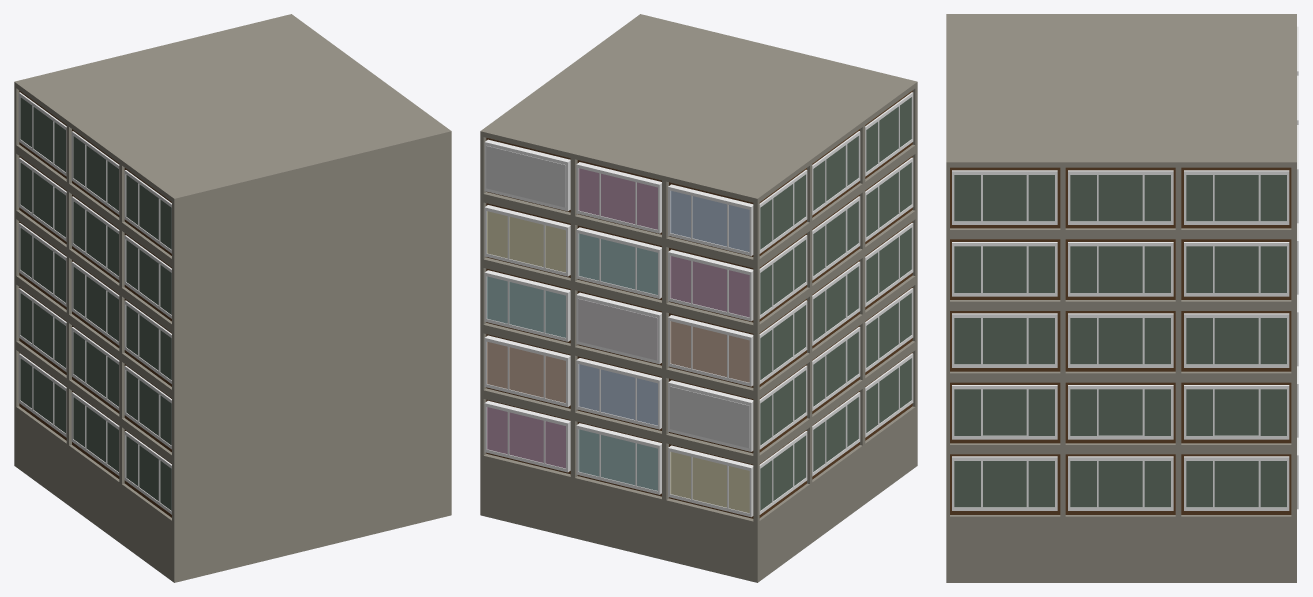
3 views of the same model, side by side, from view 1: azimuth 30°, elevation 25°; view 2: azimuth 150°, elevation 25°; view 3: azimuth 270°, elevation 25° (orthographic). The views are drawn at different scales.
Parts seen in each view (by area): view 1: Cube.008, Cube.010; view 2: Cube.008, Cube.001, Cube.010, Plane.002, Plane.001, Plane; view 3: Cube.008, Cube.011, Cube.001.
Boxes of the visible parts, <box> form: Cube.008: <box>14,14,451,582</box>; Cube.010: <box>18,92,171,514</box>; Cube.008: <box>480,14,917,582</box>; Cube.001: <box>484,139,753,517</box>; Cube.010: <box>759,92,913,514</box>; Plane.002: <box>670,386,749,448</box>; Plane.001: <box>486,146,565,207</box>; Plane: <box>578,299,657,360</box>; Cube.008: <box>946,14,1296,582</box>; Cube.011: <box>952,170,1289,510</box>; Cube.001: <box>1297,26,1298,509</box>.
Size of the model in its own units: 1.02 by 1.35 by 1.03.
